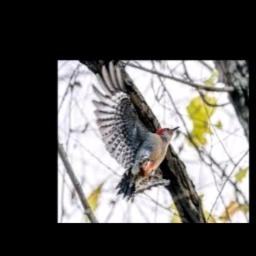Woodpecker: (92, 60, 179, 202)
